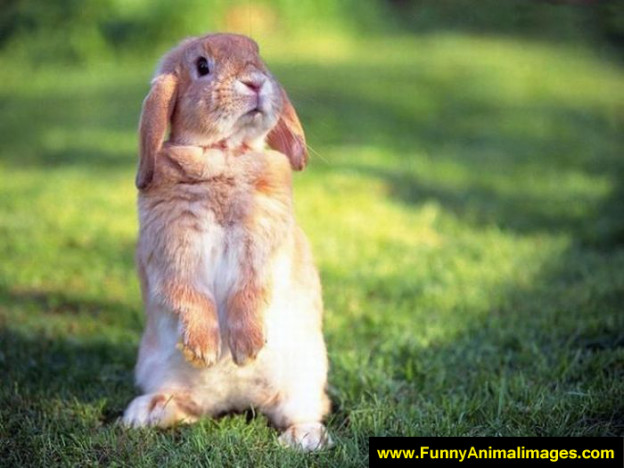bunny: (110, 19, 355, 453)
